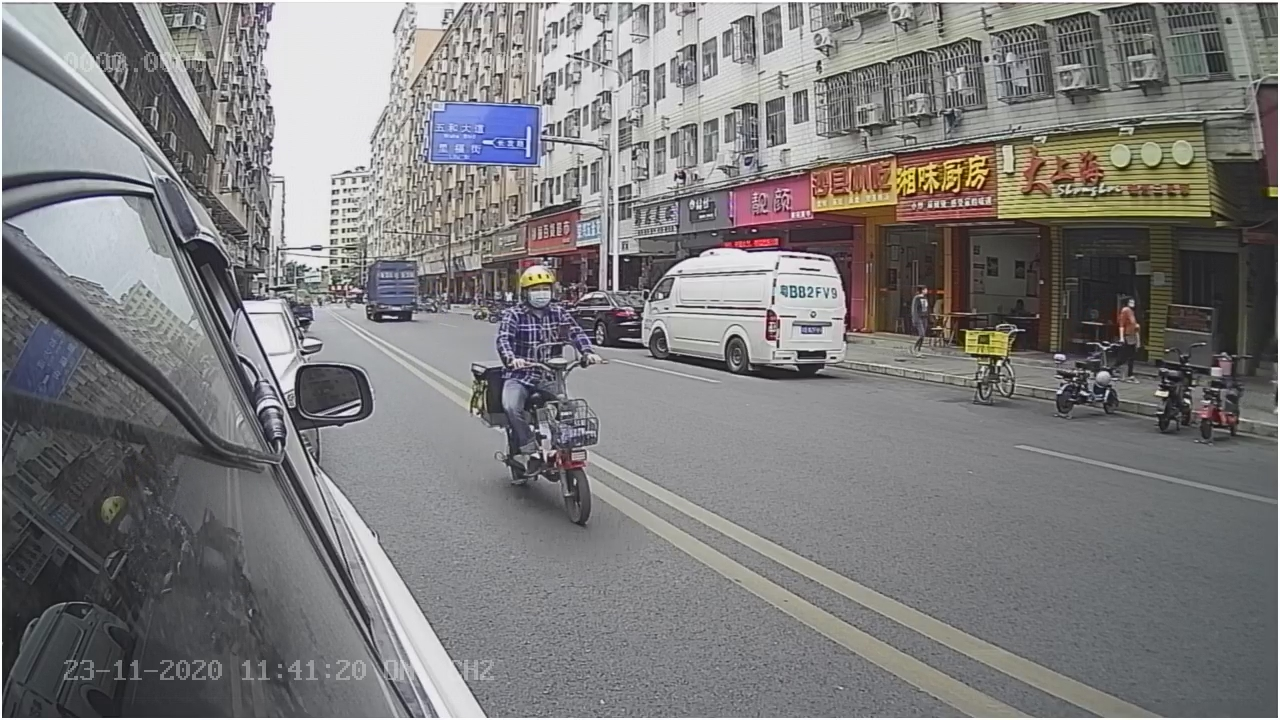person: (494, 262, 597, 355)
